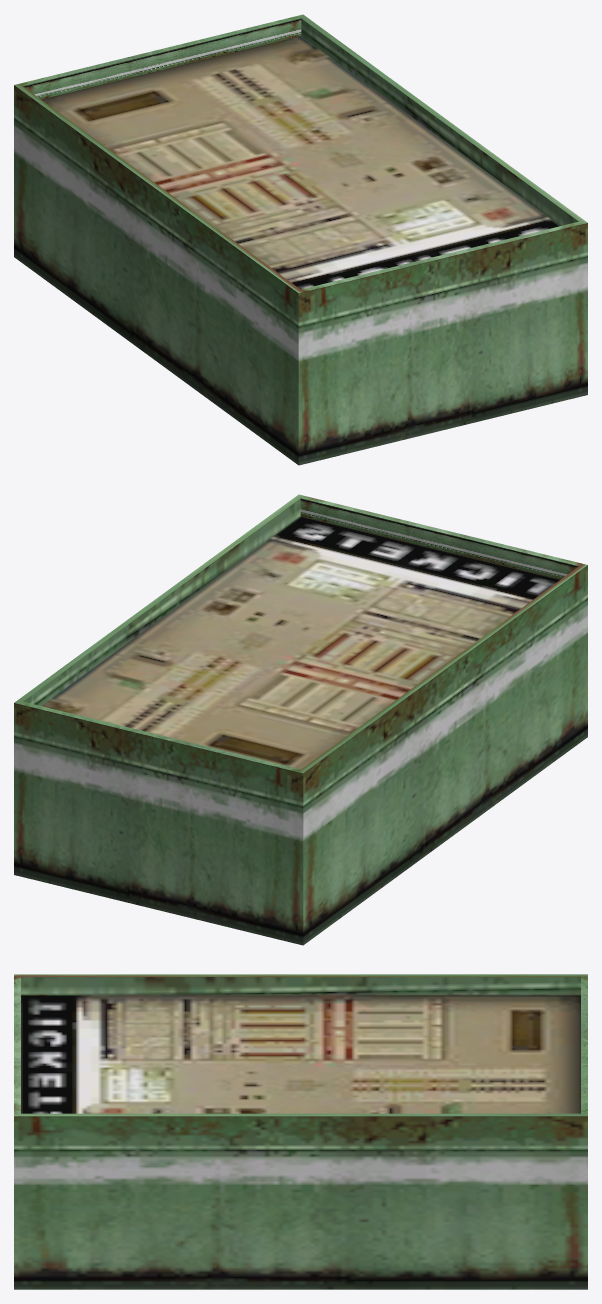
The model's file is ticketmachine_wall.fbx.
3 renders of one model, top to bottom at view 1: azimuth 30°, elevation 25°; view 2: azimuth 150°, elevation 25°; view 3: azimuth 270°, elevation 25°, orthographic.
Visible parts, largest first — view 1: mesh_0; view 2: mesh_0; view 3: mesh_0.
Boxes of the visible parts, x1=… form: mesh_0: x1=14, y1=14, x2=587, y2=465; mesh_0: x1=14, y1=494, x2=587, y2=945; mesh_0: x1=14, y1=974, x2=587, y2=1289.
Bounding box in the file's own units: 67.15 × 38.18 × 115.
1 material, 1 textured.
